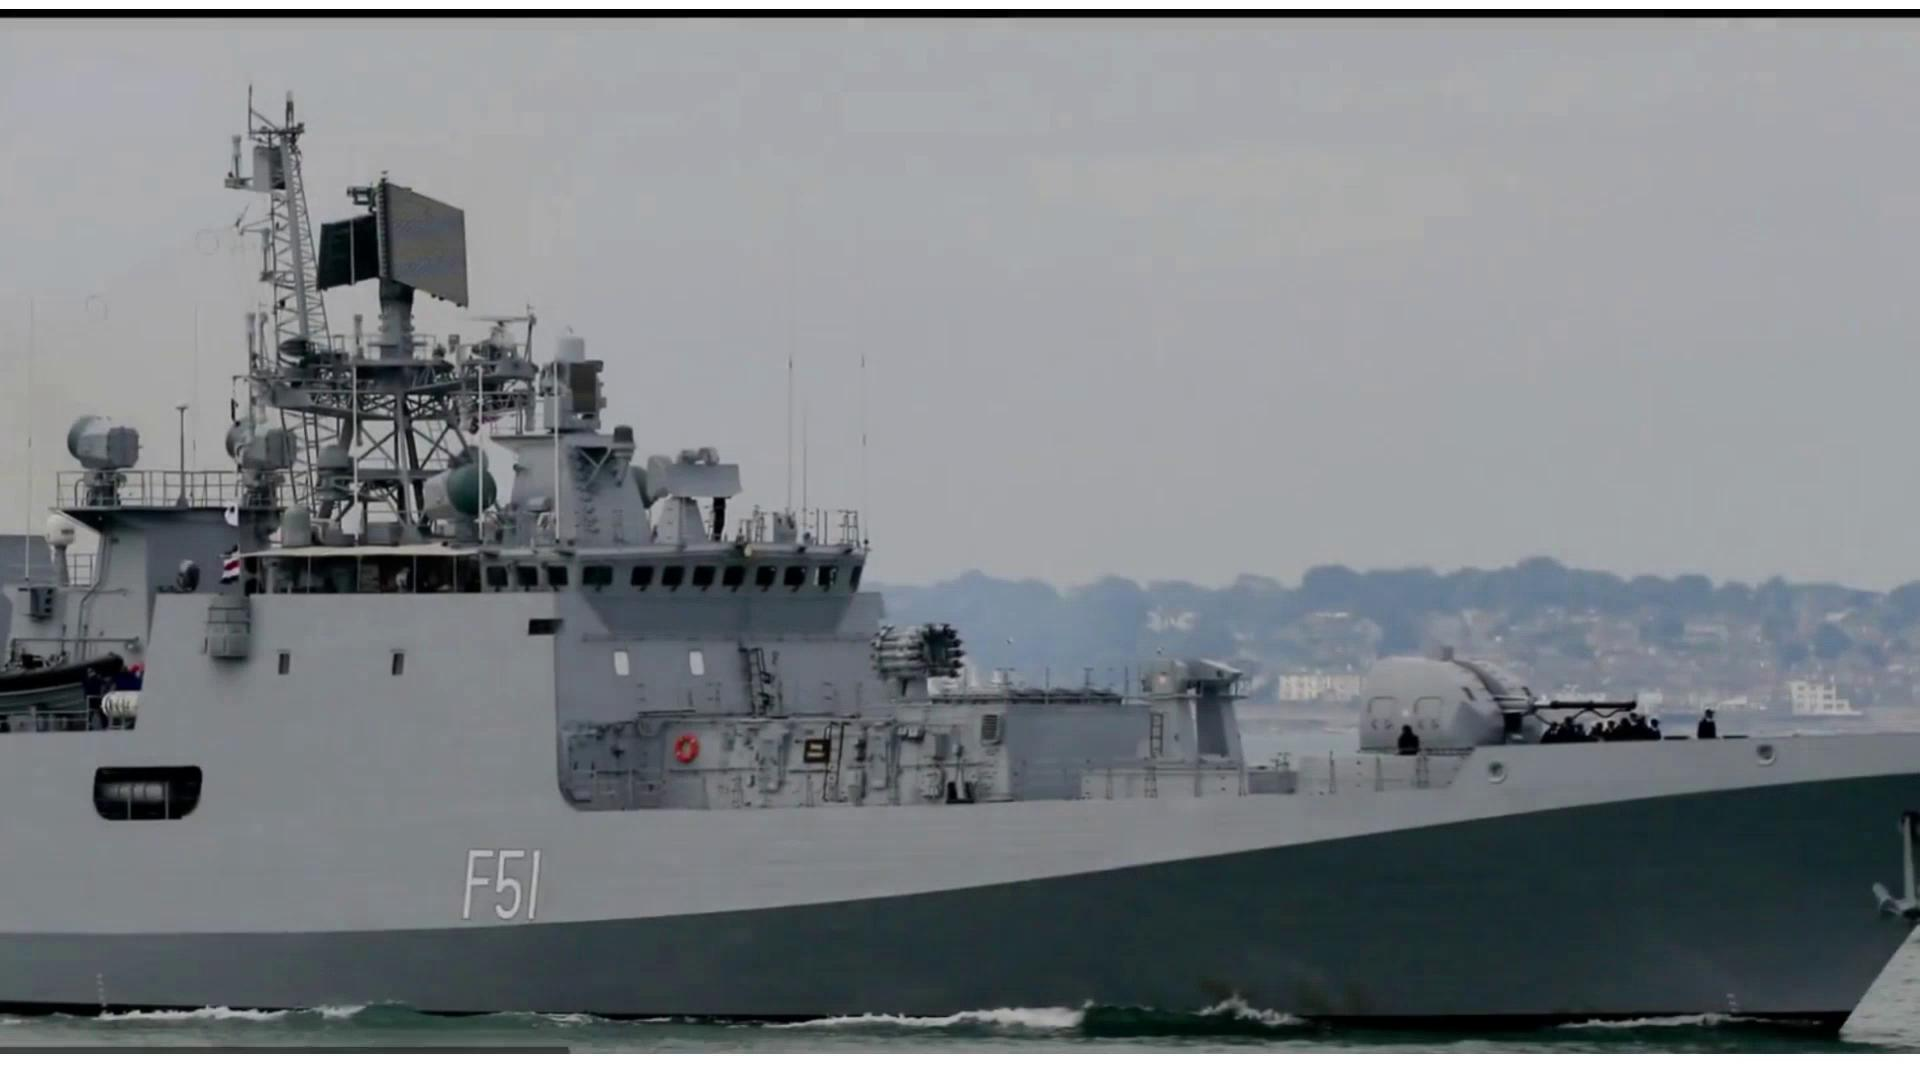OCR: (450, 842, 552, 931)
